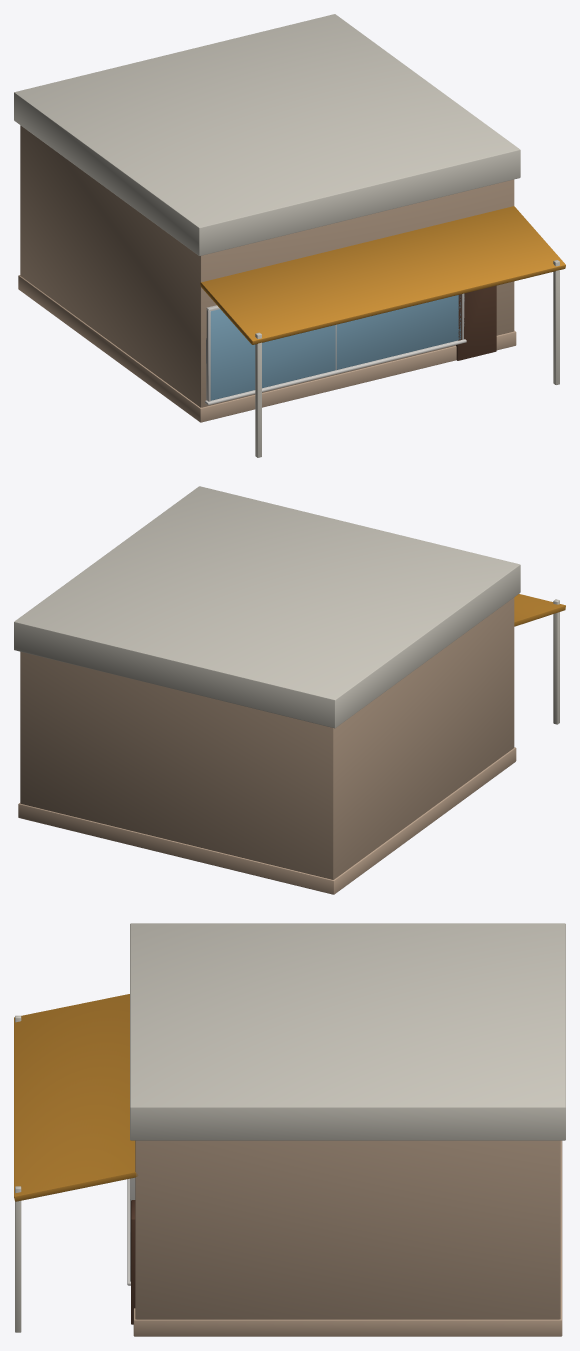
The model's file is hs-12wtdgx.glb.
3 renders of one model, top to bottom at view 1: azimuth 30°, elevation 25°; view 2: azimuth 150°, elevation 25°; view 3: azimuth 270°, elevation 25°, orthographic. The views are drawn at different scales.
Size of the model in its own units: 8.2 by 4.8 by 10.38.
